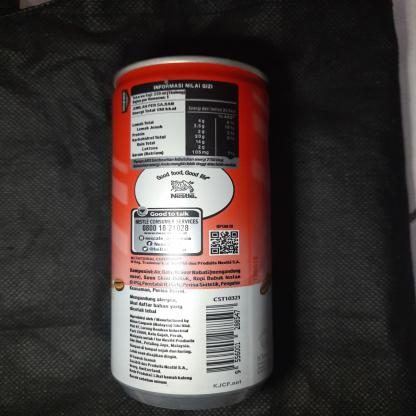can: (100, 51, 280, 415)
